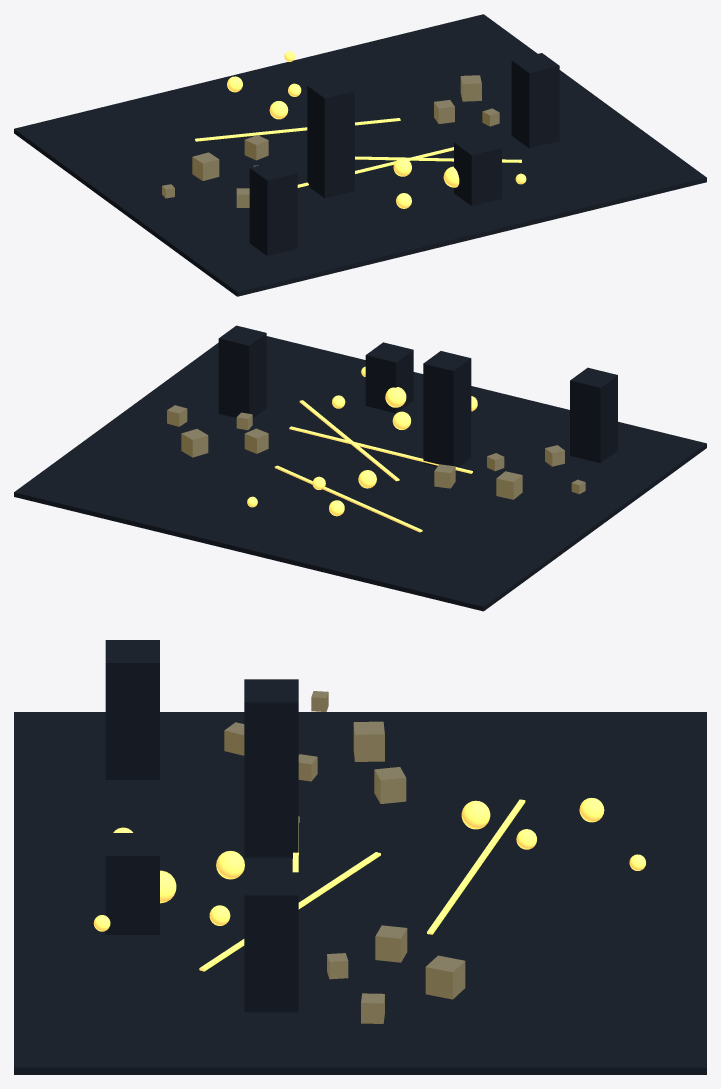
The model's file is east-blacktop.glb.
3 views of the same model, one above another, from view 1: azimuth 30°, elevation 25°; view 2: azimuth 150°, elevation 25°; view 3: azimuth 270°, elevation 25° (orthographic). The views are drawn at different scales.
Parts seen in each view (by area): view 1: GD_east-blacktop_walkable_platform, GD_east-blacktop_distant_tower_1, GD_east-blacktop_distant_tower_0, GD_east-blacktop_distant_tower_3, GD_east-blacktop_distant_tower_2, GD_east-blacktop_cluster_13, GD_east-blacktop_pcg_route_6, GD_east-blacktop_cluster_3, GD_east-blacktop_cluster_17, GD_east-blacktop_cluster_7; view 2: GD_east-blacktop_walkable_platform, GD_east-blacktop_distant_tower_1, GD_east-blacktop_distant_tower_0, GD_east-blacktop_distant_tower_3, GD_east-blacktop_distant_tower_2, GD_east-blacktop_cluster_3, GD_east-blacktop_cluster_13, GD_east-blacktop_pcg_route_12, GD_east-blacktop_pcg_route_6, GD_east-blacktop_pcg_route_0, GD_east-blacktop_cluster_7, GD_east-blacktop_cluster_17; view 3: GD_east-blacktop_walkable_platform, GD_east-blacktop_distant_tower_1, GD_east-blacktop_distant_tower_3, GD_east-blacktop_distant_tower_0, GD_east-blacktop_distant_tower_2, GD_east-blacktop_cluster_3, GD_east-blacktop_cluster_13, GD_east-blacktop_pcg_route_6, GD_east-blacktop_cluster_7, GD_east-blacktop_cluster_17, GD_east-blacktop_pcg_route_0, GD_east-blacktop_cluster_11 (+2 smaller).
Part boxes in pixels (x1,y1,x2,y2): GD_east-blacktop_walkable_platform: [14, 14, 706, 296]; GD_east-blacktop_distant_tower_1: [307, 78, 354, 198]; GD_east-blacktop_distant_tower_0: [249, 160, 297, 255]; GD_east-blacktop_distant_tower_3: [511, 53, 559, 148]; GD_east-blacktop_distant_tower_2: [454, 135, 501, 205]; GD_east-blacktop_cluster_13: [192, 152, 219, 180]; GD_east-blacktop_pcg_route_6: [195, 118, 400, 141]; GD_east-blacktop_cluster_3: [460, 75, 481, 101]; GD_east-blacktop_cluster_17: [244, 135, 268, 160]; GD_east-blacktop_cluster_7: [434, 100, 454, 123]; GD_east-blacktop_walkable_platform: [14, 336, 706, 611]; GD_east-blacktop_distant_tower_1: [423, 351, 471, 467]; GD_east-blacktop_distant_tower_0: [570, 367, 617, 463]; GD_east-blacktop_distant_tower_3: [218, 325, 266, 418]; GD_east-blacktop_distant_tower_2: [365, 342, 413, 413]; GD_east-blacktop_cluster_3: [181, 429, 208, 457]; GD_east-blacktop_cluster_13: [496, 471, 522, 499]; GD_east-blacktop_pcg_route_12: [289, 426, 472, 473]; GD_east-blacktop_pcg_route_6: [274, 465, 422, 532]; GD_east-blacktop_pcg_route_0: [299, 400, 399, 481]; GD_east-blacktop_cluster_7: [244, 428, 268, 453]; GD_east-blacktop_cluster_17: [434, 464, 455, 488]; GD_east-blacktop_walkable_platform: [14, 712, 706, 1074]; GD_east-blacktop_distant_tower_1: [244, 679, 298, 857]; GD_east-blacktop_distant_tower_3: [244, 872, 298, 1012]; GD_east-blacktop_distant_tower_0: [105, 640, 159, 779]; GD_east-blacktop_distant_tower_2: [105, 833, 159, 934]; GD_east-blacktop_cluster_3: [425, 955, 465, 999]; GD_east-blacktop_cluster_13: [353, 721, 384, 761]; GD_east-blacktop_pcg_route_6: [427, 799, 525, 934]; GD_east-blacktop_cluster_7: [375, 925, 407, 962]; GD_east-blacktop_cluster_17: [374, 767, 406, 803]; GD_east-blacktop_pcg_route_0: [199, 852, 380, 971]; GD_east-blacktop_cluster_11: [361, 993, 384, 1023].
Size of the model in its own units: 17 by 3.62 by 14.
